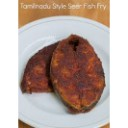seerfish: (55, 33, 106, 111), (21, 40, 67, 93)
